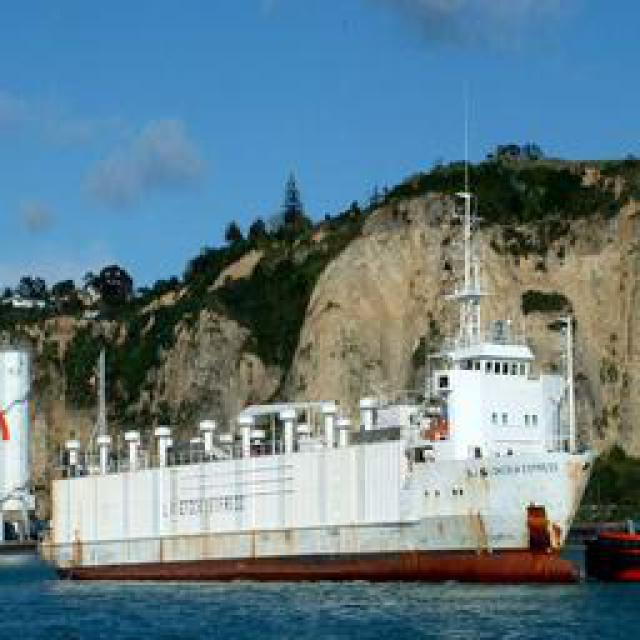Ship: (31, 87, 599, 589)
